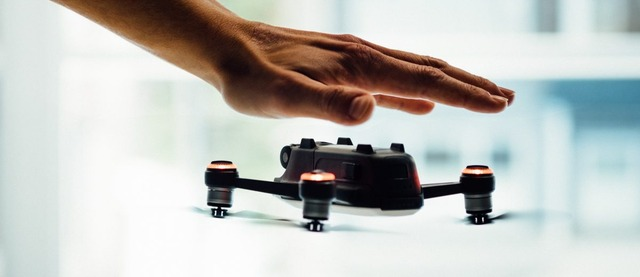drone: (189, 135, 509, 235)
